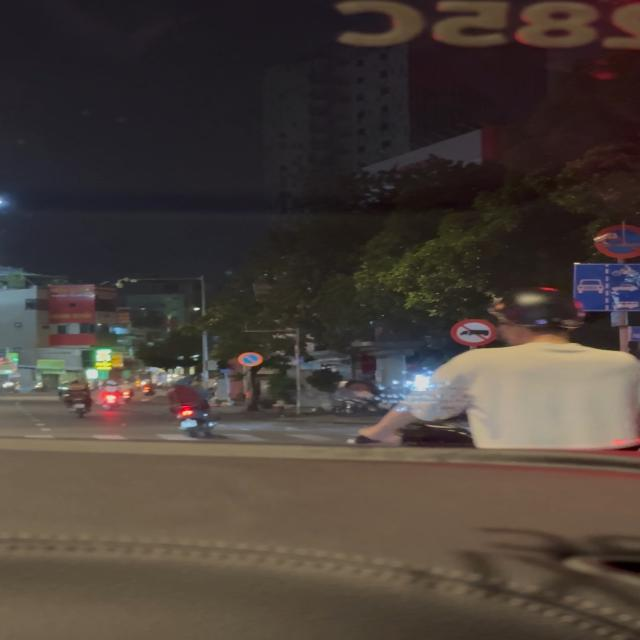Bien bao cam xe so-mi ro-mooc: (448, 317, 502, 348)
